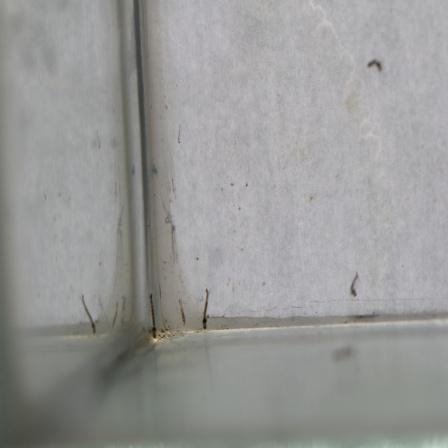Jentik-Nyamuk: (143, 289, 162, 344), (197, 285, 213, 332), (346, 269, 365, 300), (363, 55, 386, 75)
